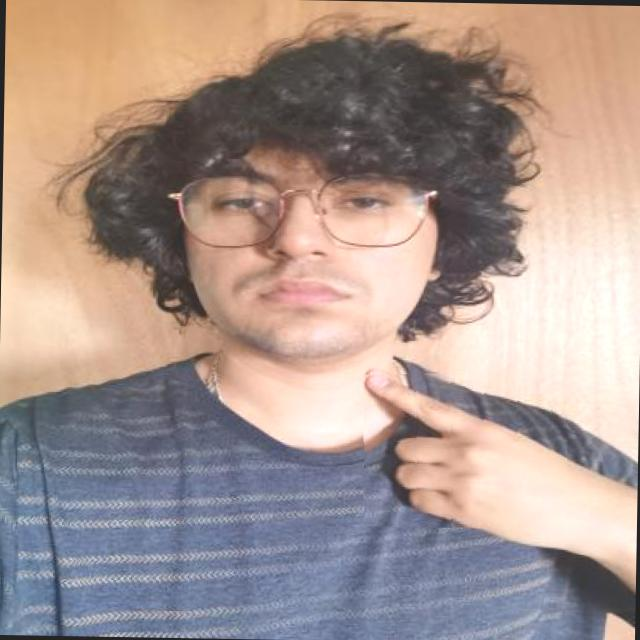Q: (361, 368, 568, 530)
